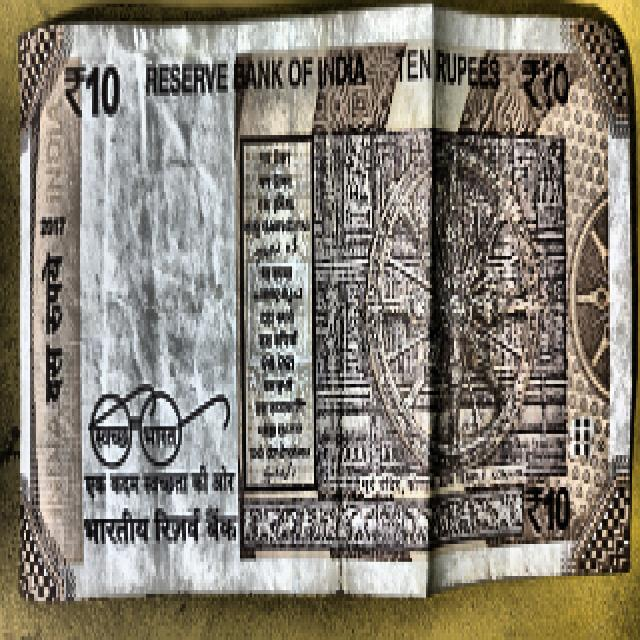-10-: (18, 18, 640, 583)
